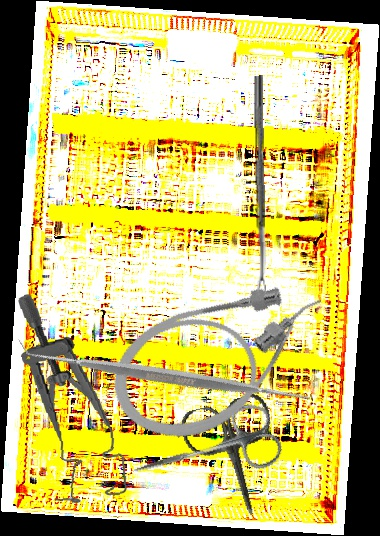Cannula: (95, 261, 351, 459)
Iris Scissors: (123, 398, 287, 506), (177, 391, 294, 527)
Spatula Surgical: (17, 225, 319, 526)
Speculum: (14, 284, 130, 510)
Surgical Spoon: (252, 75, 267, 295)
